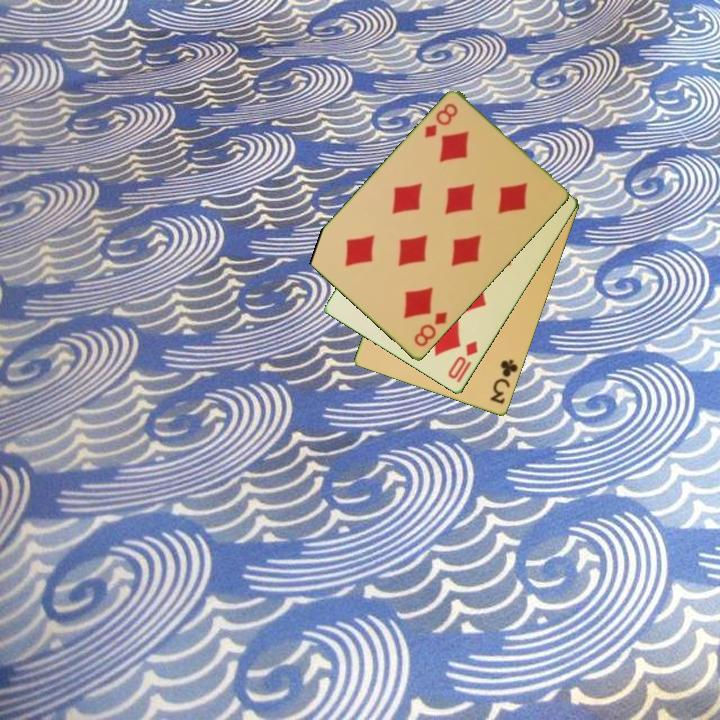10d: (444, 338, 481, 386)
3c: (486, 356, 521, 407)
8d: (410, 308, 450, 350), (421, 100, 461, 141)
